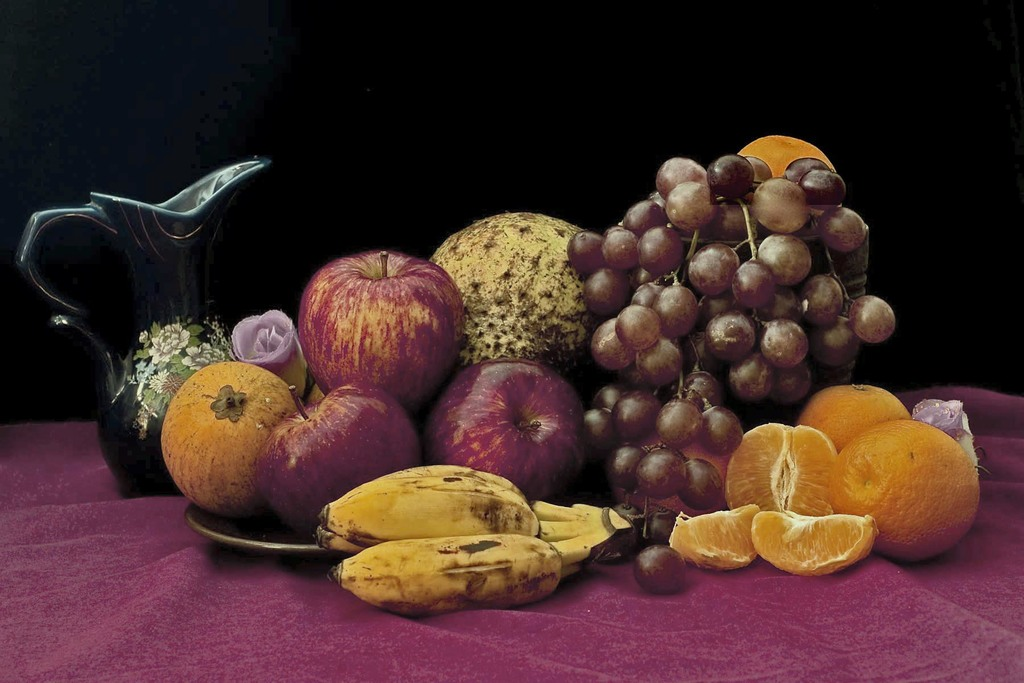Apple: (251, 372, 446, 534), (298, 243, 469, 406), (424, 364, 604, 509)
